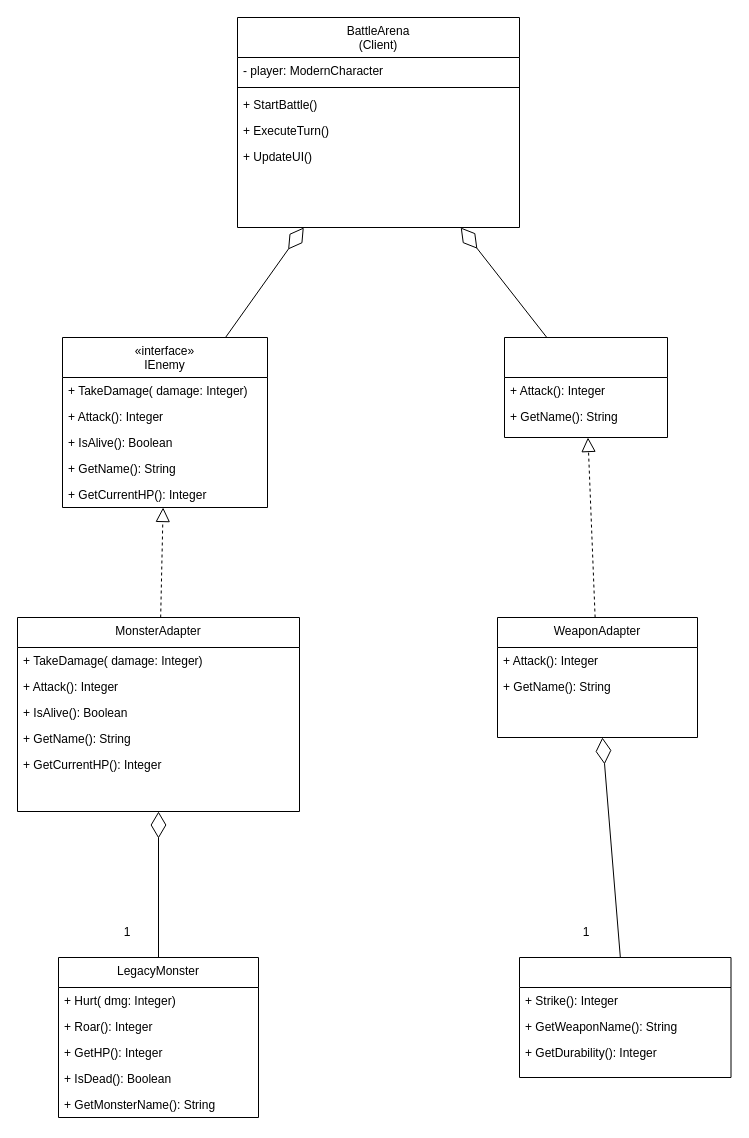
Some shapes in this 749 by 1138 pixel diagram are drawn without their labels. The shapes that lost their labels are listed below. From the top down, each one's box as (x1, y1, x2, y2) in pixels, then its label:
(504, 336, 668, 438): «interface» IWeapon
(518, 956, 731, 1078): OldWeapon
